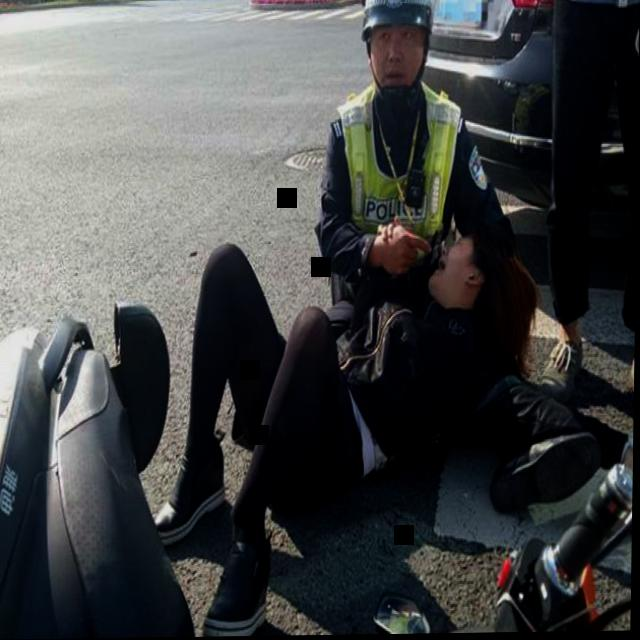Fall-Detected: (104, 187, 607, 639)
